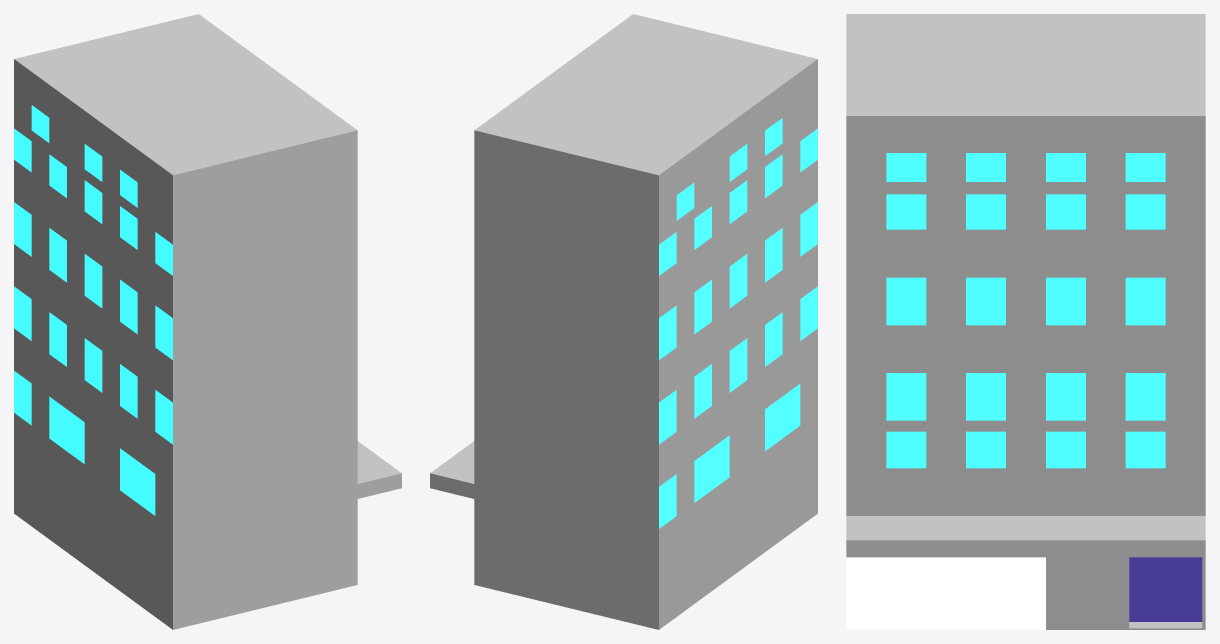
The model's file is Biulding.fbx.
3 views of the same model, side by side, from view 1: azimuth 30°, elevation 25°; view 2: azimuth 150°, elevation 25°; view 3: azimuth 270°, elevation 25° (orthographic). The views are drawn at different scales.
Visible parts, largest first — view 1: Biulding one; view 2: Biulding one; view 3: Biulding one.
Part boxes in pixels (x1,y1,x2,y2): Biulding one: (14,14,401,629); Biulding one: (430,14,817,629); Biulding one: (846,14,1205,629).
Size of the model in its own units: 824 by 1565 by 992.
